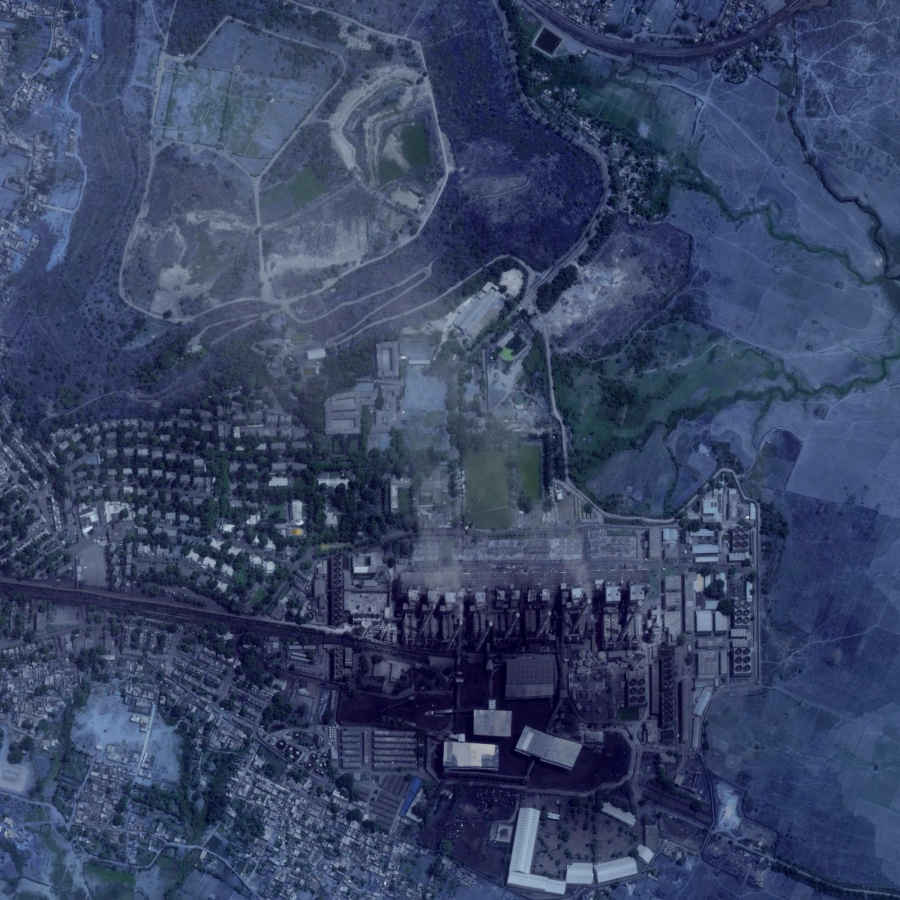PowerPlant: (338, 450, 761, 800)
